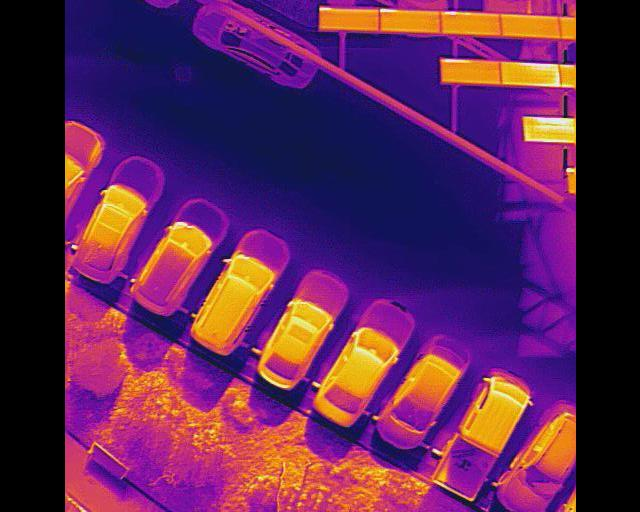No-Anomaly: (438, 12, 500, 37), (378, 10, 441, 34), (317, 7, 380, 31), (498, 15, 558, 38)
Unclassified: (499, 62, 561, 86), (440, 60, 500, 84), (523, 115, 575, 141)
